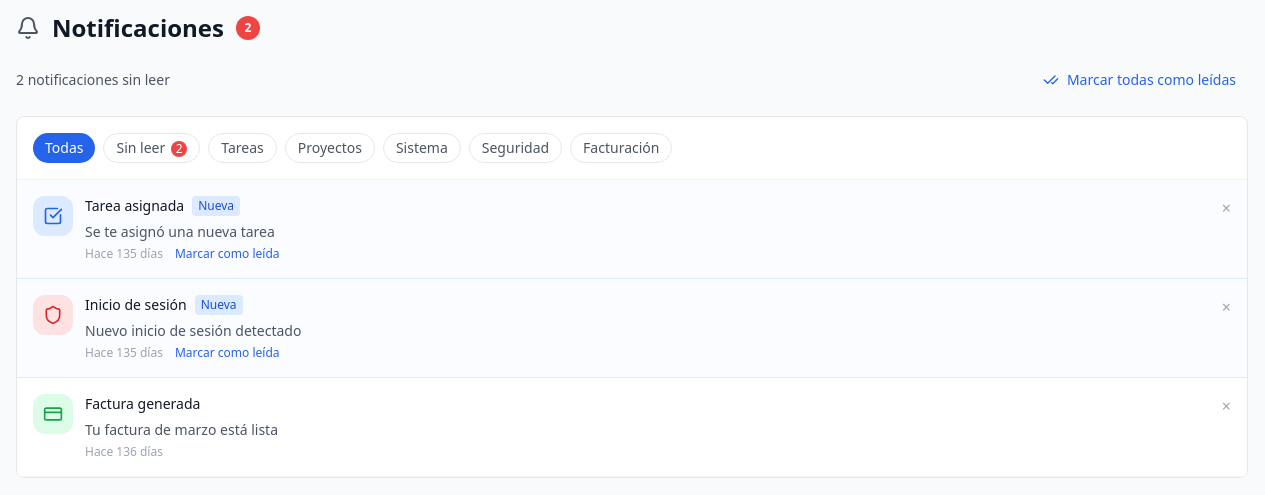
Test: NotificationsPage › filters to unread only when "Sin leer" is clicked
Click the button "Sin leer 2" at (152, 148), box [104,133,200,163]
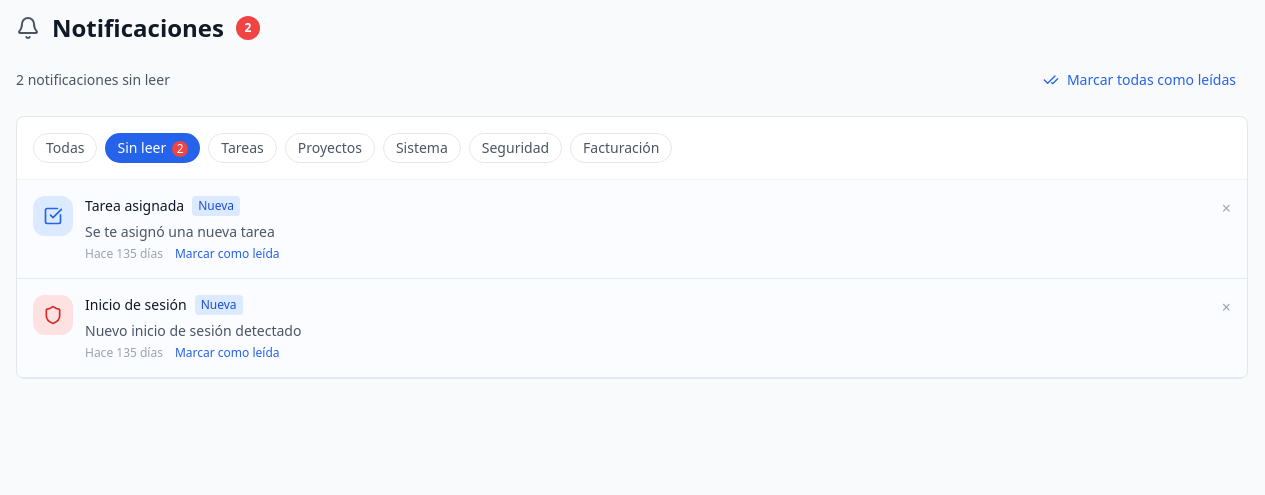
expect the text "Tarea asignada" is shown: met, box [85,196,184,216]
expect the text "Factura generada" is gone: met
